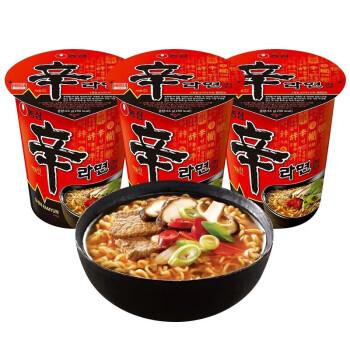instant_noodle: (0, 47, 125, 225), (223, 49, 341, 228), (124, 52, 226, 184)
